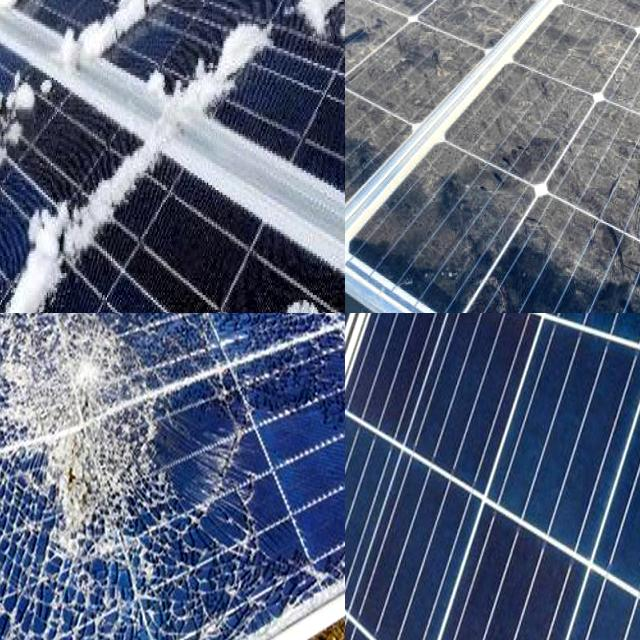crack: (345, 313, 640, 640)
dust: (525, 190, 624, 313), (370, 0, 487, 85), (418, 182, 496, 302), (345, 0, 391, 183), (491, 82, 576, 178), (595, 0, 640, 148), (505, 0, 585, 79), (493, 0, 600, 50), (614, 0, 640, 27)
hotspot: (0, 313, 177, 568), (262, 313, 345, 379), (0, 606, 73, 640)
panel: (0, 51, 107, 313), (182, 0, 275, 132), (97, 0, 211, 82), (70, 146, 173, 236), (0, 38, 40, 205), (0, 0, 76, 83), (39, 0, 127, 56), (243, 258, 332, 313), (0, 0, 53, 75), (0, 0, 75, 51), (288, 0, 345, 59), (97, 0, 163, 42), (314, 0, 345, 31)
